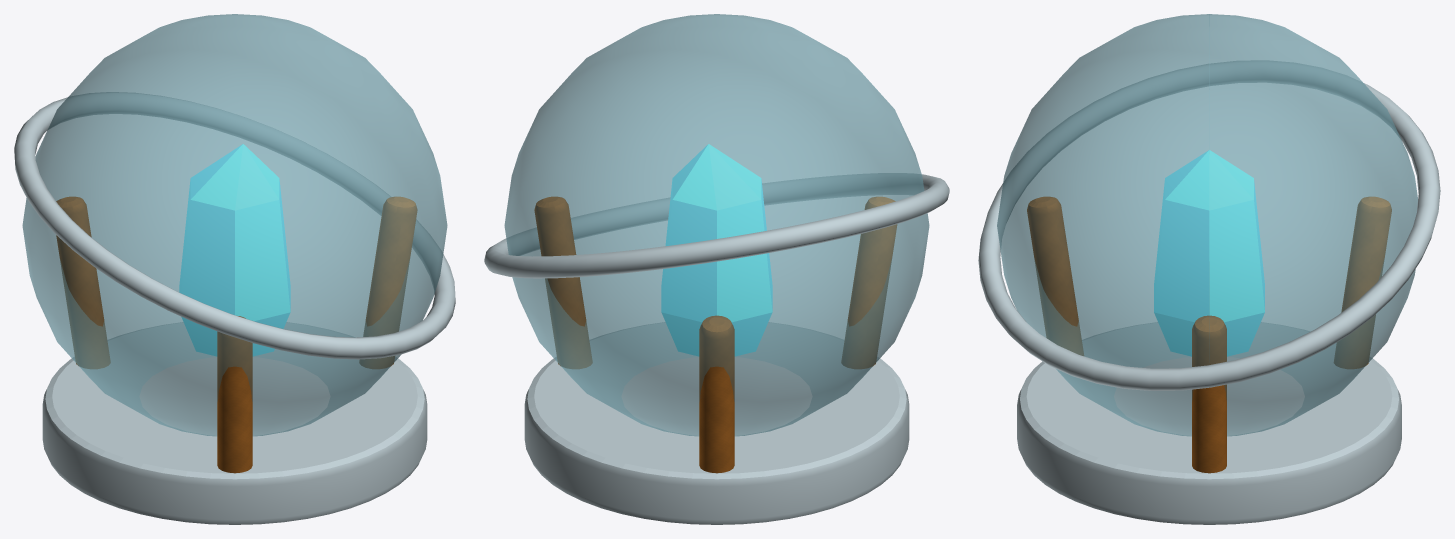
The model's file is relic_01.glb.
3 views of the same model, side by side, from view 1: azimuth 30°, elevation 25°; view 2: azimuth 150°, elevation 25°; view 3: azimuth 270°, elevation 25° (orthographic).
Parts seen in each view (by area): view 1: Smoked_crystal, Antique_silver, Luminous_aquamarine, Brushed_gold; view 2: Smoked_crystal, Antique_silver, Brushed_gold, Luminous_aquamarine; view 3: Smoked_crystal, Antique_silver, Luminous_aquamarine, Brushed_gold.
Boxes of the visible parts, <box> form: Smoked_crystal: <box>22,14,447,436</box>; Antique_silver: <box>14,92,455,524</box>; Luminous_aquamarine: <box>179,144,290,356</box>; Brushed_gold: <box>56,196,417,473</box>; Smoked_crystal: <box>504,14,929,436</box>; Antique_silver: <box>484,173,949,524</box>; Brushed_gold: <box>534,196,897,473</box>; Luminous_aquamarine: <box>661,144,772,356</box>; Smoked_crystal: <box>997,14,1417,436</box>; Antique_silver: <box>978,60,1440,524</box>; Luminous_aquamarine: <box>1154,150,1264,356</box>; Brushed_gold: <box>1027,196,1391,473</box>.
Size of the model in its own units: 0.5617 by 0.57 by 0.5763.
4 materials, 1 textured.
